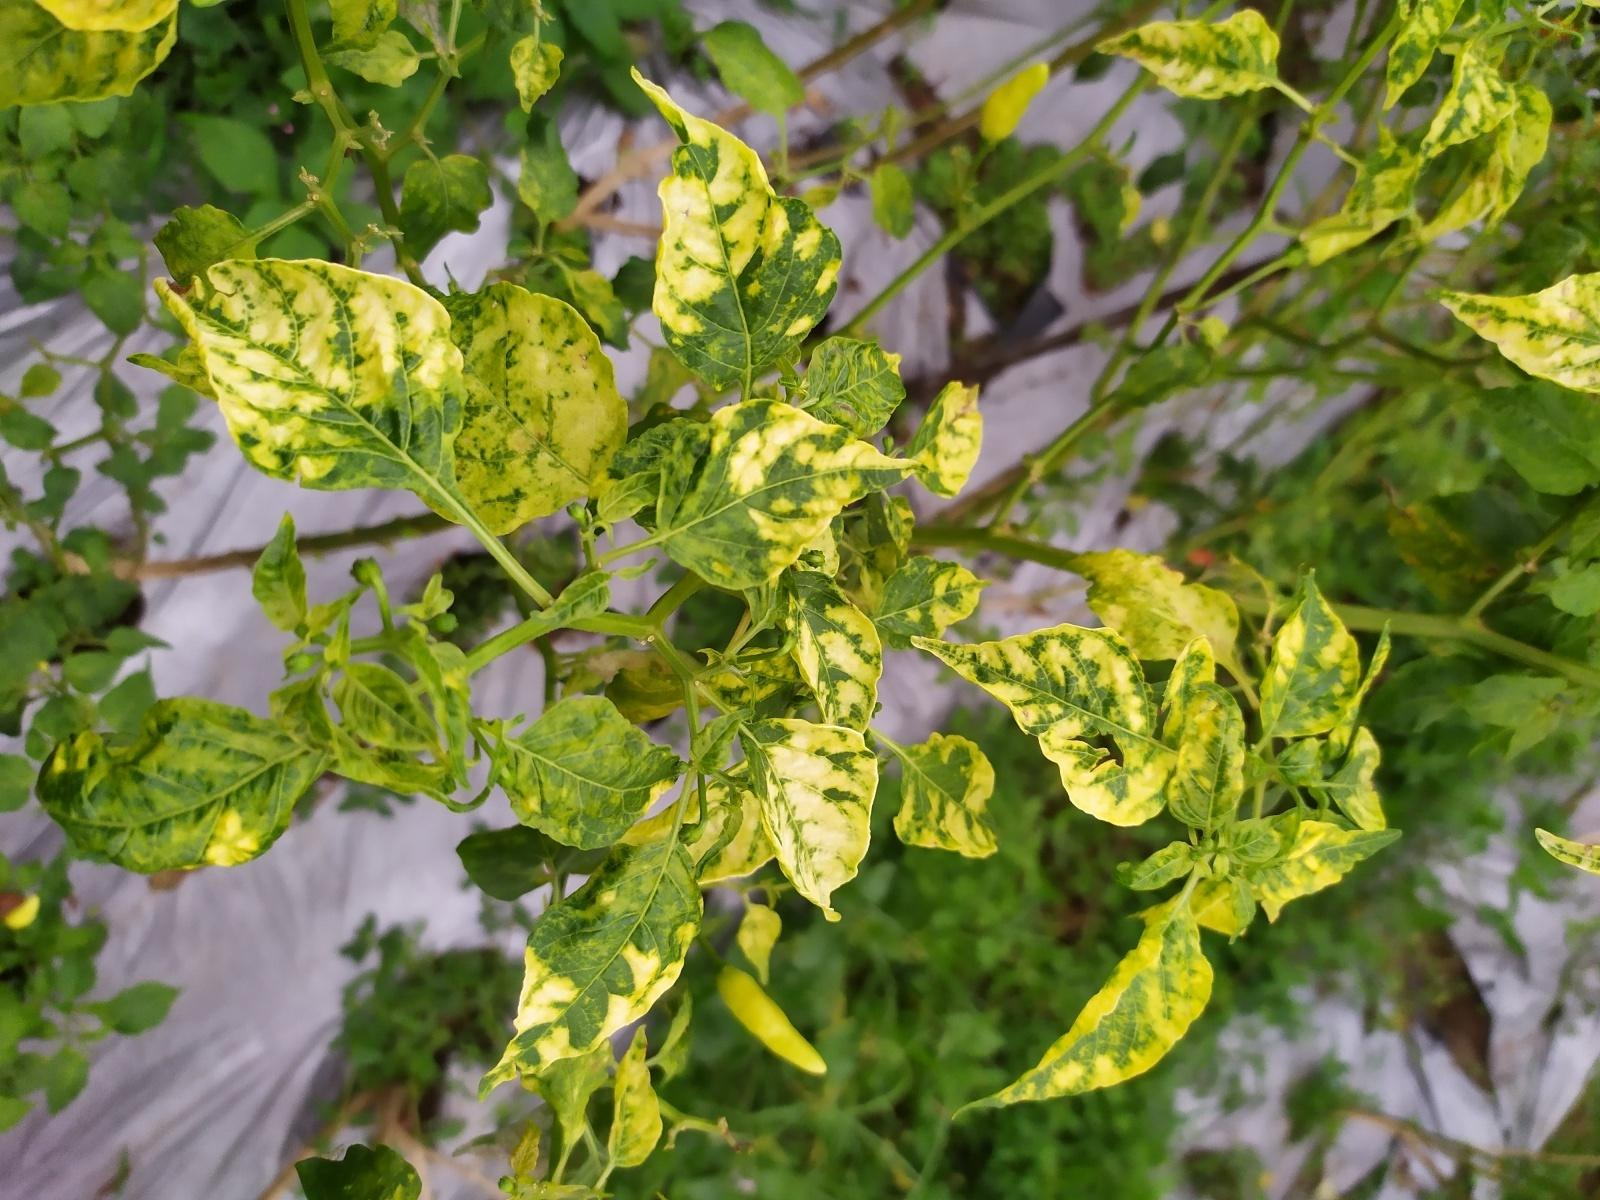cabai_normal: (716, 966, 823, 1073), (979, 62, 1054, 149)
